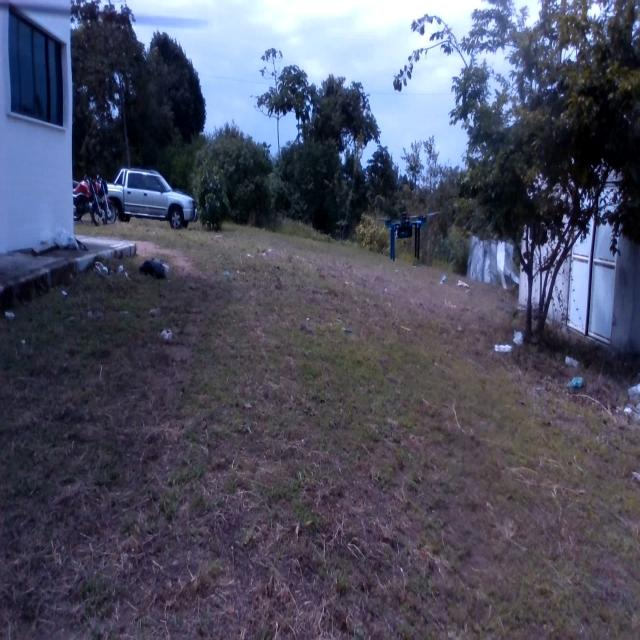-uav-: (378, 212, 434, 272)
